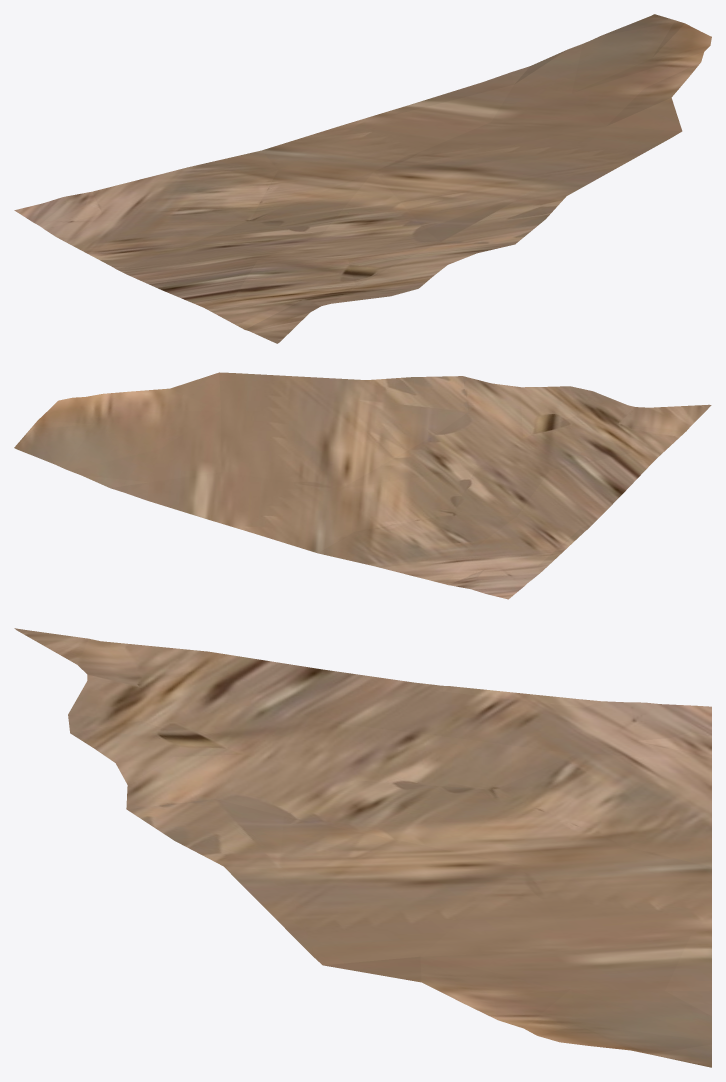
3 views of the same model, one above another, from view 1: azimuth 30°, elevation 25°; view 2: azimuth 150°, elevation 25°; view 3: azimuth 270°, elevation 25° (orthographic). The views are drawn at different scales.
Bounding box in the file's own units: 2.09 × 0.1863 × 1.49.
Materials: 1 (1 with a texture image).
